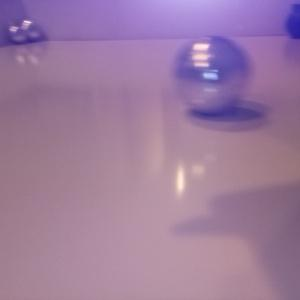alive_ball: (173, 36, 250, 114), (20, 19, 41, 41), (8, 25, 26, 43)
dead_ball: (286, 11, 300, 38)
